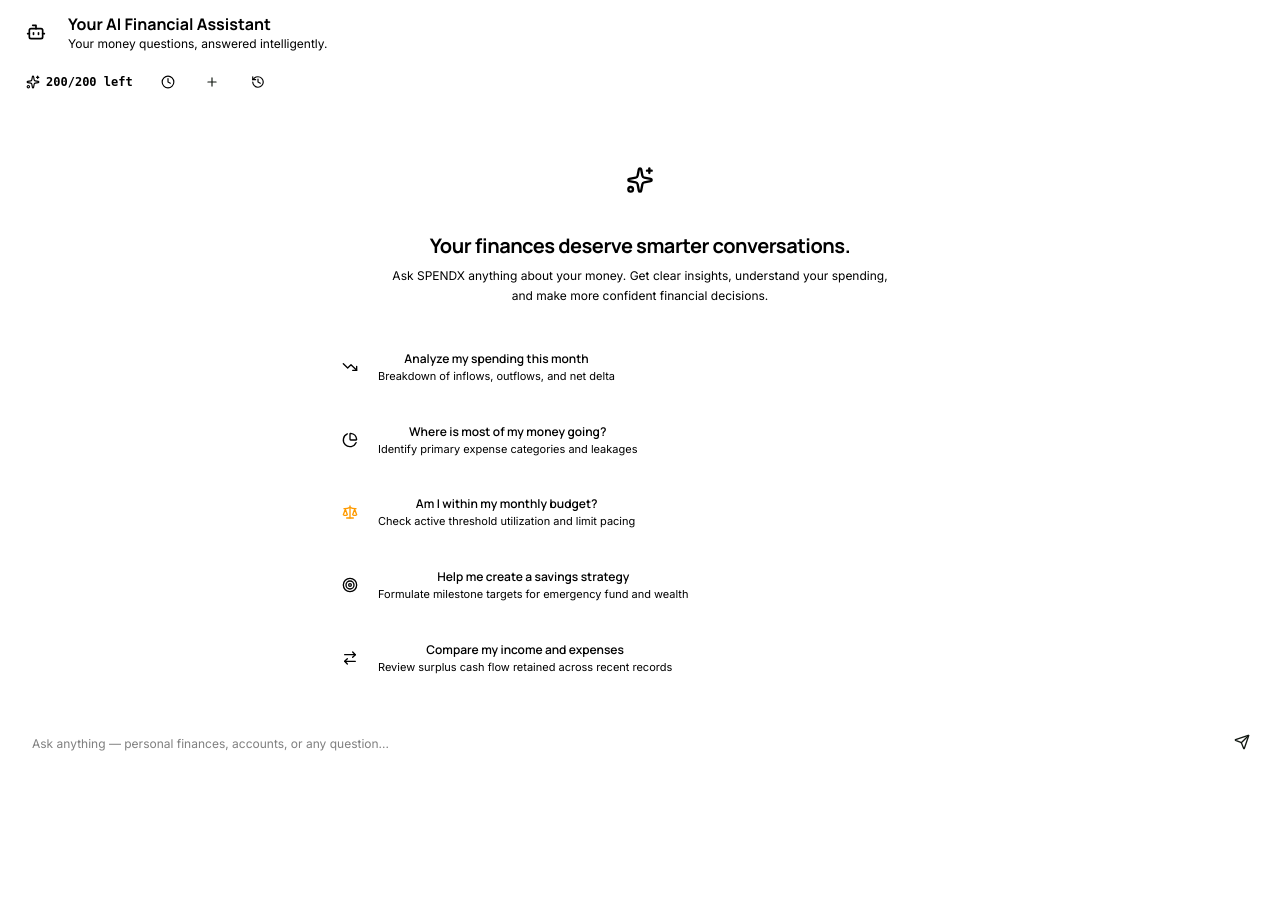
Test: SPENDX AI Financial Assistant Page › toggles conversation history sidebar and renders history items
This screenshot has width=1280, height=900.
Click the button named "toggle conversation history" at {"x": 258, "y": 82}, box [239, 64, 277, 100]
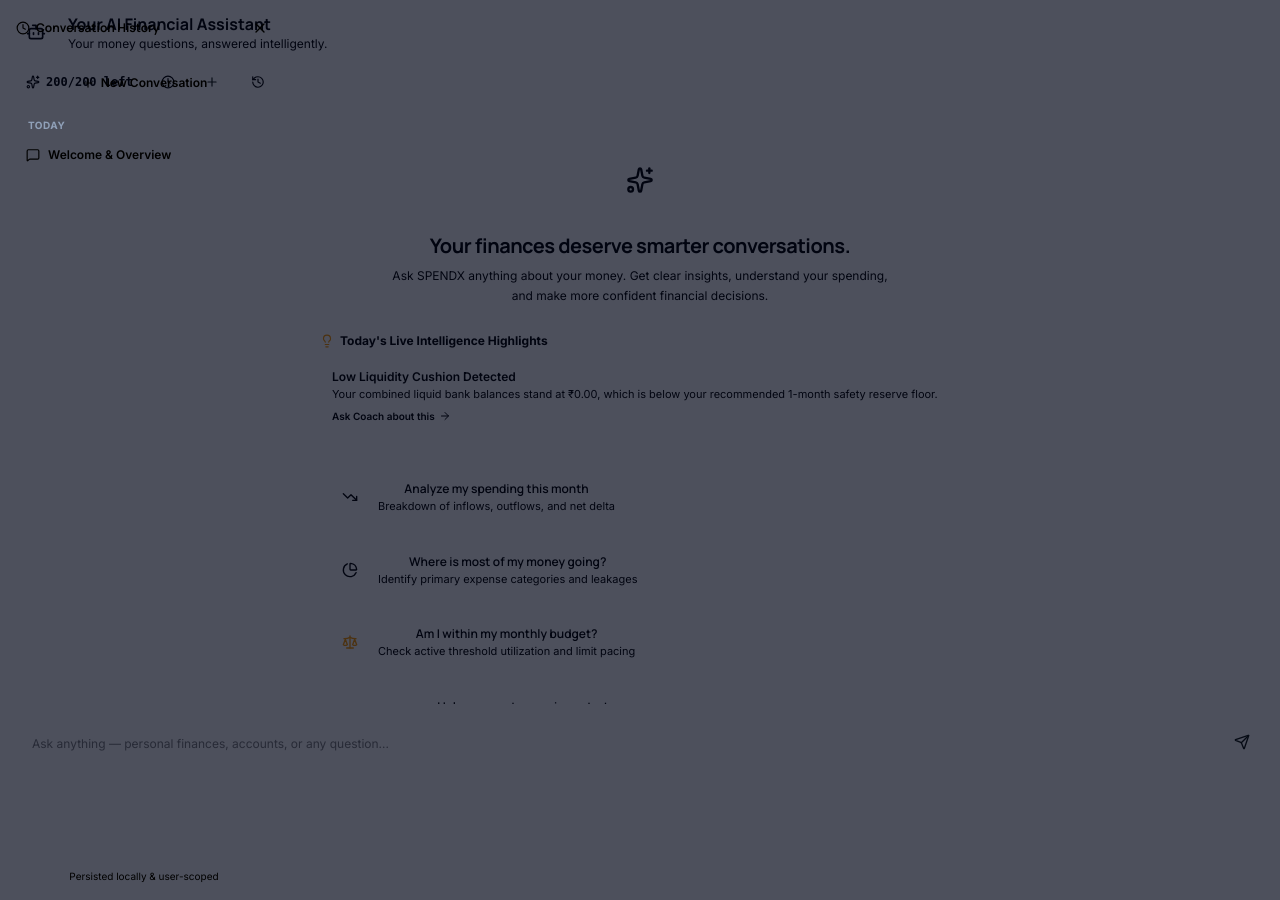
Result: the text "Conversation History" is shown at [36, 20, 159, 36]
Result: the button "New Conversation" is shown at [16, 64, 272, 102]
